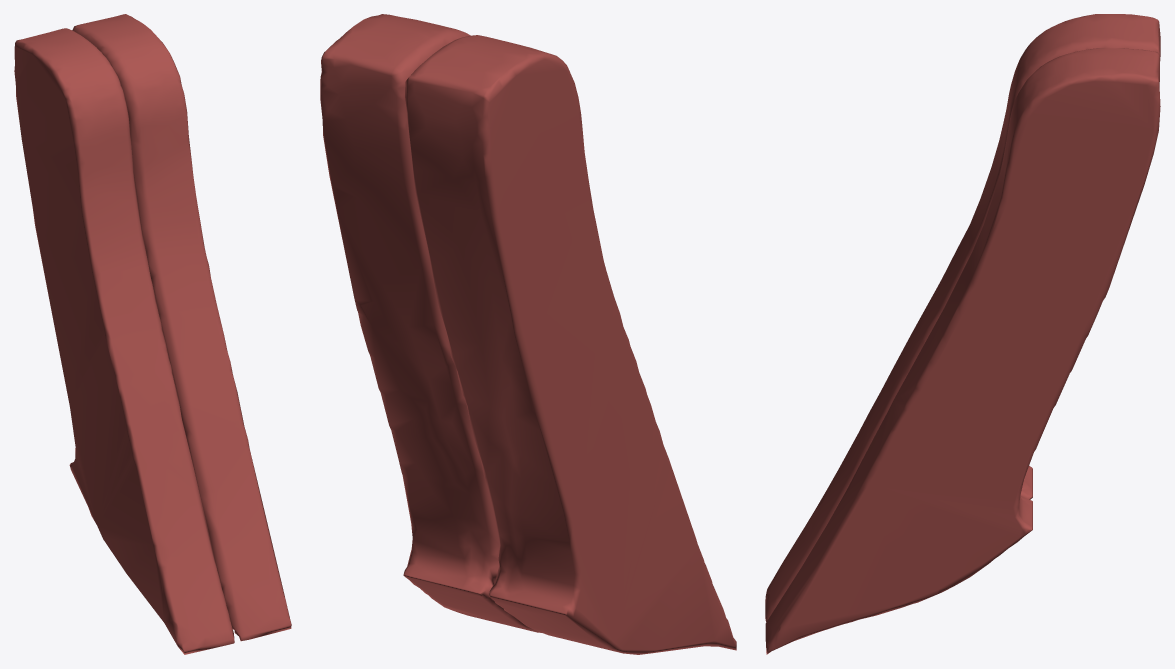
Rendered from FMA61975.glb.
3 views of the same model, side by side, from view 1: azimuth 30°, elevation 25°; view 2: azimuth 150°, elevation 25°; view 3: azimuth 270°, elevation 25° (orthographic). The views are drawn at different scales.
Visible parts, largest first — view 1: FMA61975; view 2: FMA61975; view 3: FMA61975.
Boxes of the visible parts, x1,y1,x2,y2 form: FMA61975: (14,14,291,654); FMA61975: (320,14,736,654); FMA61975: (765,14,1160,654).
Size of the model in its own units: 0.00265 by 0.0112 by 0.00691.
